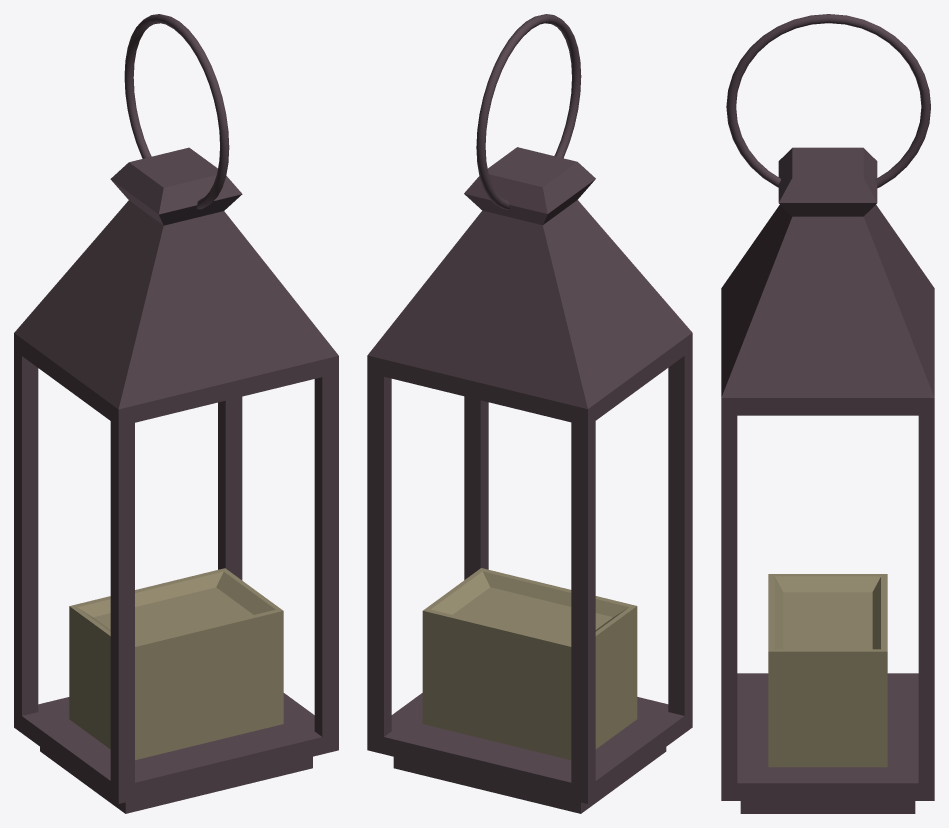
The model's file is mesh_lamp_01.FBX.
3 views of the same model, side by side, from view 1: azimuth 30°, elevation 25°; view 2: azimuth 150°, elevation 25°; view 3: azimuth 270°, elevation 25° (orthographic). The views are drawn at different scales.
Visible parts, largest first — view 1: Box074; view 2: Box074; view 3: Box074.
Boxes of the visible parts, left/top/right/bottom form: Box074: left=14, top=14, right=338, bottom=813; Box074: left=367, top=14, right=692, bottom=813; Box074: left=721, top=14, right=934, bottom=813.
Size of the model in its own units: 0.3077 by 0.9851 by 0.2528.
